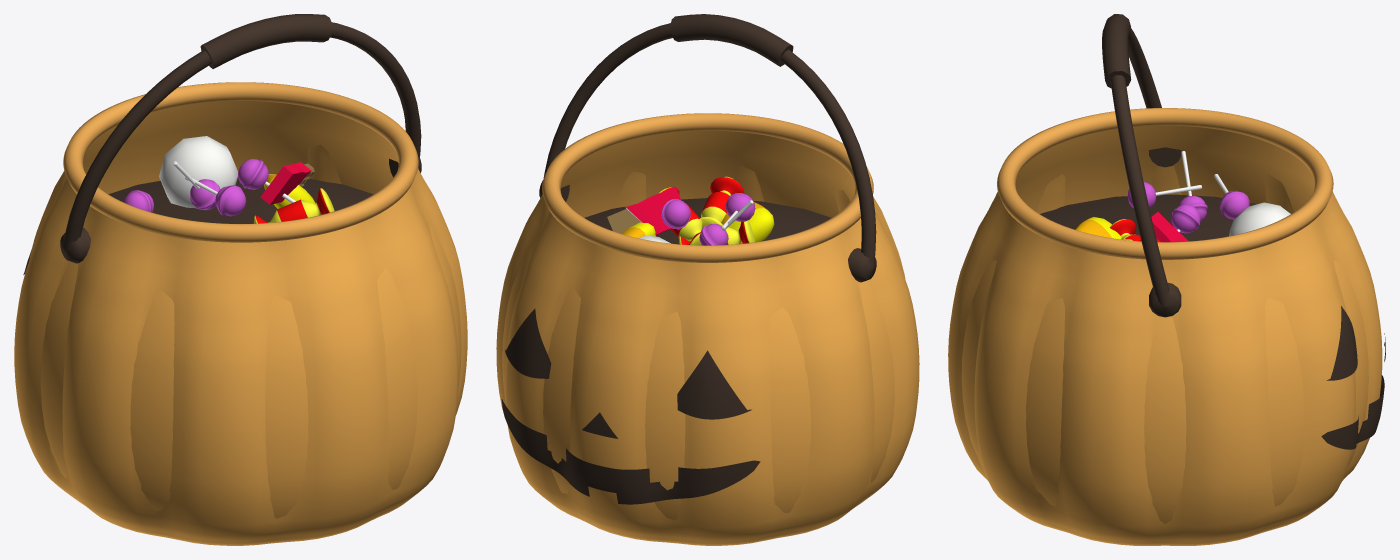
File: item-hal-candy-bucket.glb
The picture shows the model from 3 angles, left to right: view 1: azimuth 30°, elevation 25°; view 2: azimuth 150°, elevation 25°; view 3: azimuth 270°, elevation 25°; orthographic projection. The views are drawn at different scales.
Size of the model in its own units: 0.3058 by 0.361 by 0.3167.
